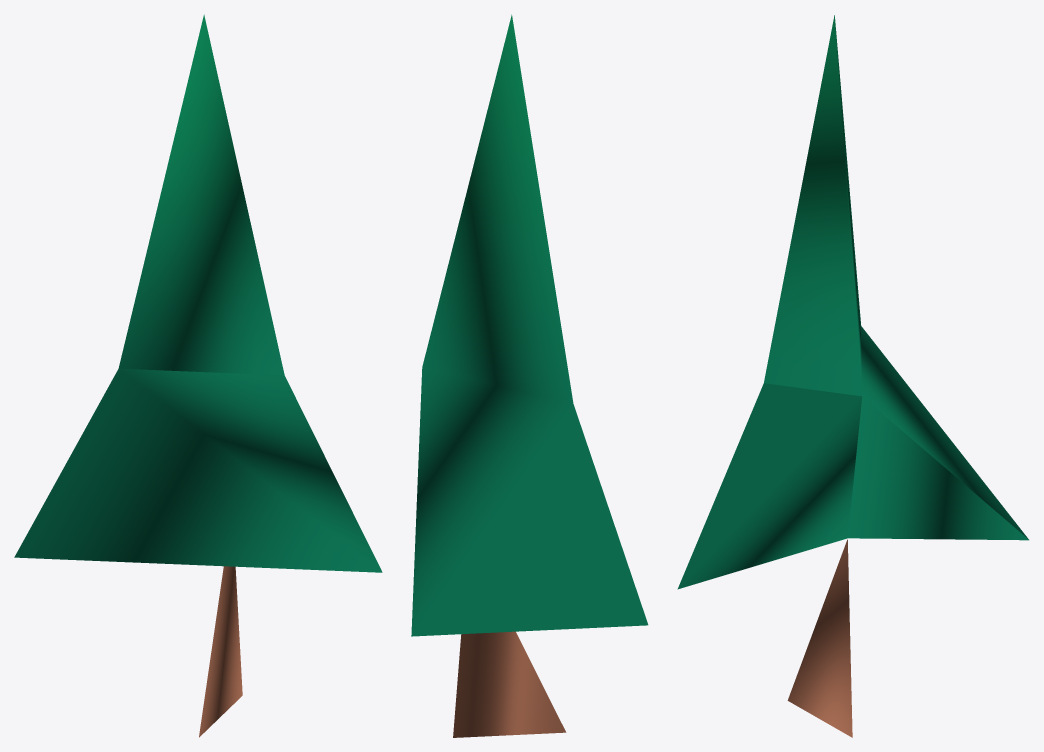
Rendered from tree_single-small.glb.
3 renders of one model, left to right at view 1: azimuth 30°, elevation 25°; view 2: azimuth 150°, elevation 25°; view 3: azimuth 270°, elevation 25°, orthographic. The views are drawn at different scales.
Visible parts, largest first — view 1: tree_single_A; view 2: tree_single_A; view 3: tree_single_A.
Boxes of the visible parts, box(x1,y1,x2,y2) form: tree_single_A: box(14, 14, 382, 737); tree_single_A: box(411, 14, 648, 737); tree_single_A: box(677, 15, 1028, 737).
Size of the model in its own units: 0.4665 by 1.2 by 0.5448.
Materials: 1 (1 with a texture image).
